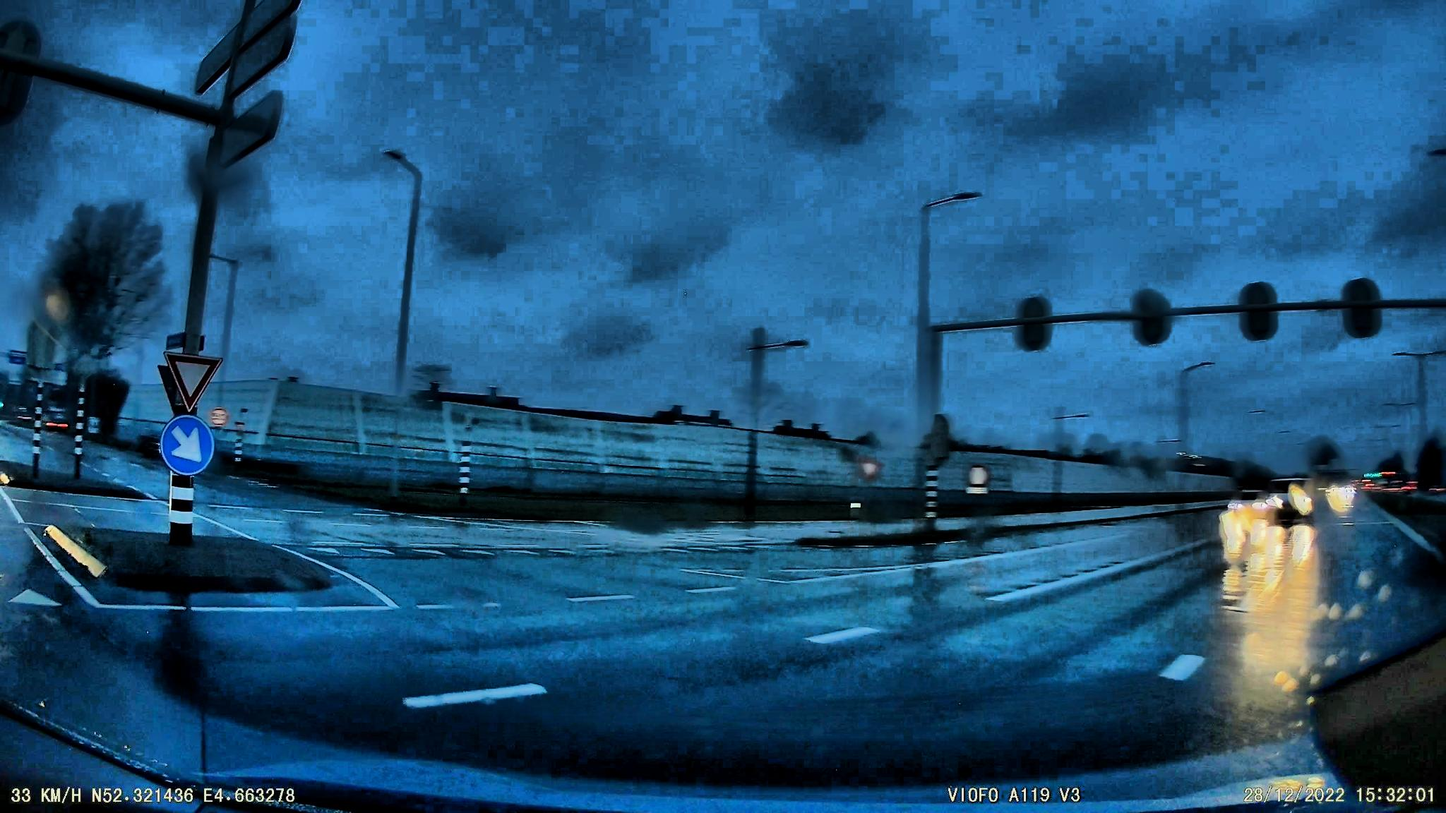Roads: (0, 480, 1446, 813)
